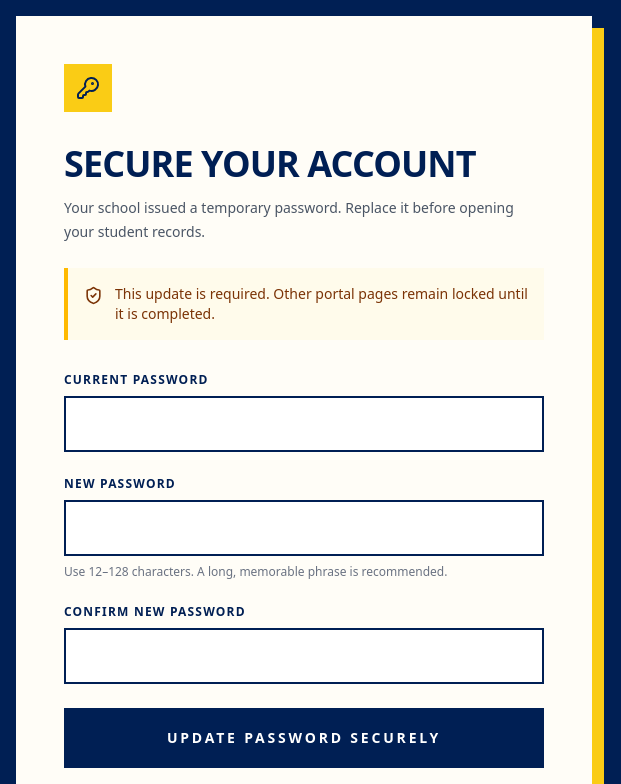
Test case: PasswordPage › submits the change and schedules a clean sign-out
Type "Temporary-password-2026" into the password field labelled "Current password" at (304, 424), box [64,396,544,452]
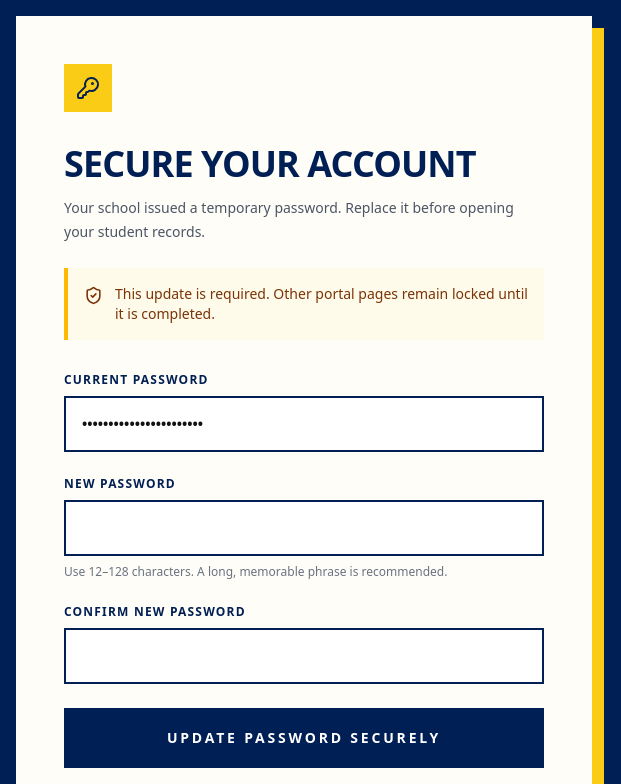
Type "A-new-password-2026" into the password field labelled "New password" at (304, 528), box [64,500,544,556]
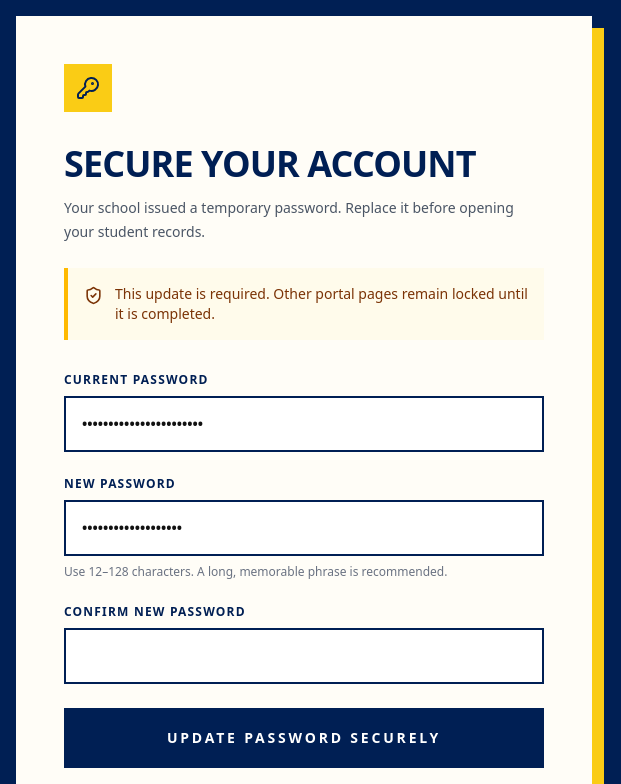
Type "A-new-password-2026" into the password field labelled "Confirm new password" at (304, 656), box [64,628,544,684]
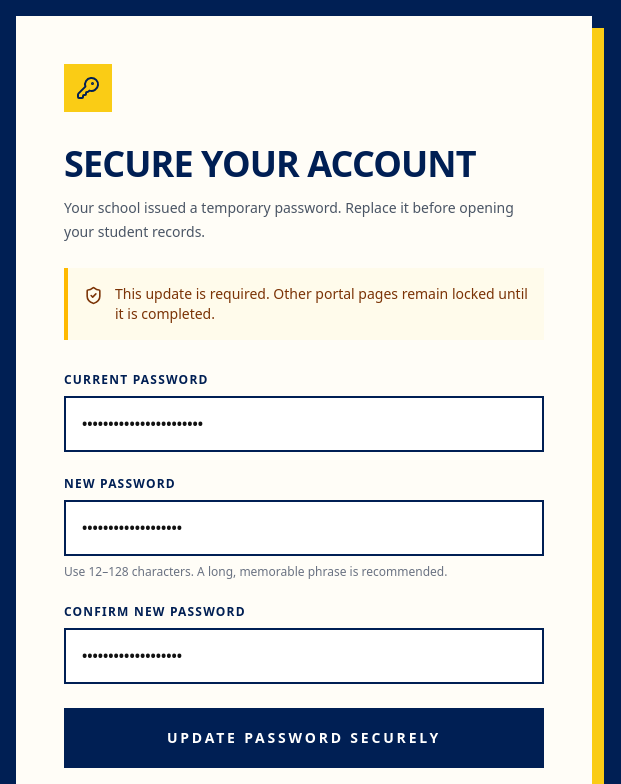
Submit the form named "Update password securely", box [64,372,544,768]
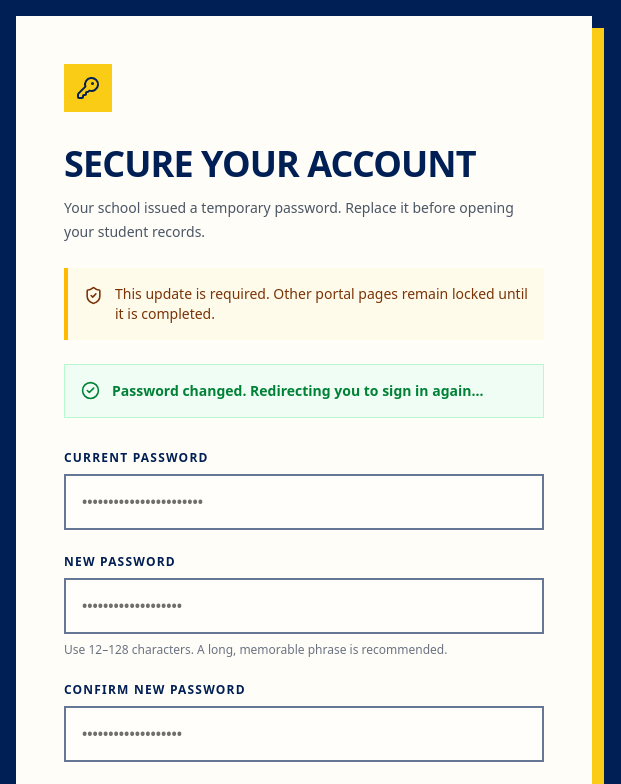
Expected: the message shows "Password changed.", [112,381,483,400]
